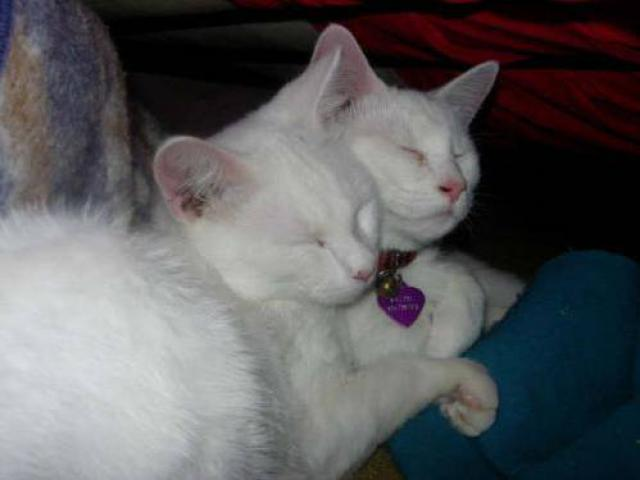cat: (55, 42, 528, 480)
